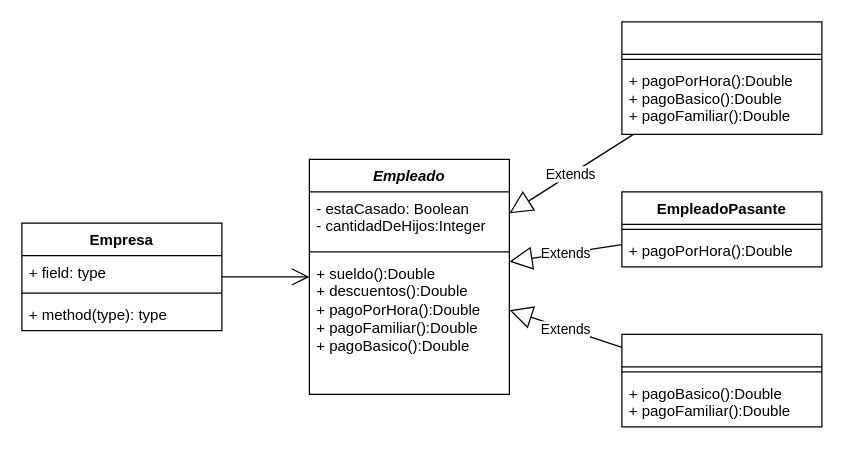
This 844x453 diagram has some shape labels left out. The shapes that lost their labels are listed below. From the top down, each one's box as (x1, y1, x2, y2) in pixels, then its label:
(621, 21, 822, 134): EmpleadoTemporario
(621, 333, 822, 427): EmpleadoPlanta
